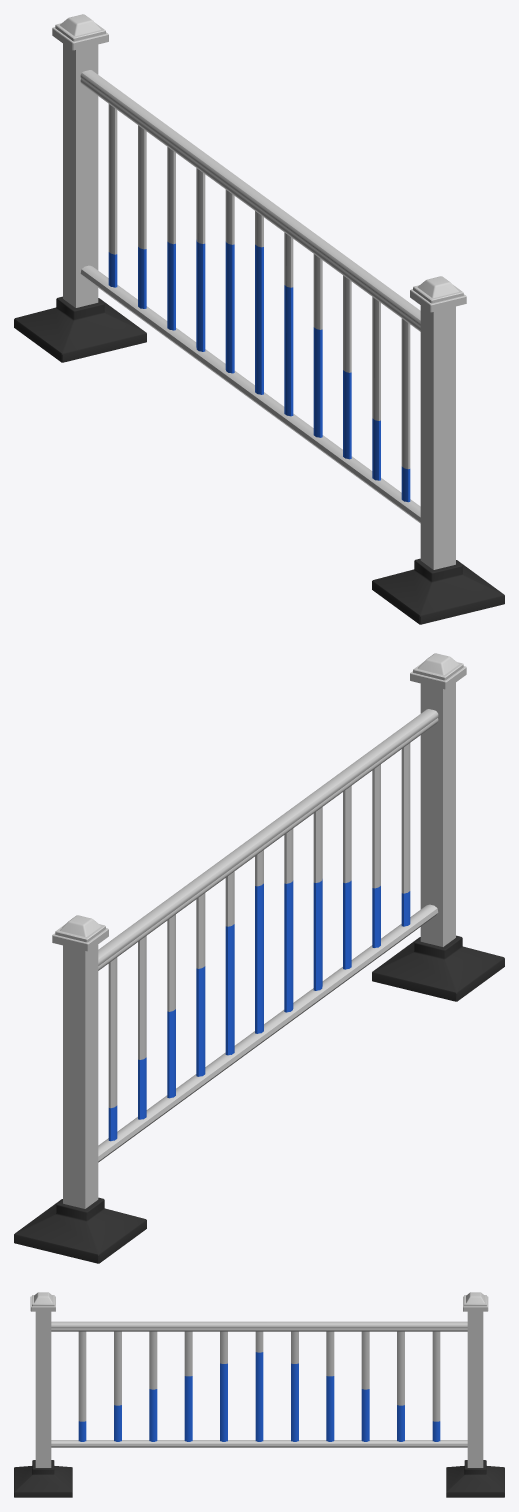
The model's file is Guardrail.FBX.
The picture shows the model from 3 angles, top to bottom: view 1: azimuth 30°, elevation 25°; view 2: azimuth 150°, elevation 25°; view 3: azimuth 270°, elevation 25°; orthographic projection. The views are drawn at different scales.
Parts seen in each view (by area): view 1: 护栏; view 2: 护栏; view 3: 护栏.
Part boxes in pixels (box(x1,y1,x2,y2)): 护栏: box(14, 14, 504, 624); 护栏: box(14, 653, 504, 1263); 护栏: box(14, 1292, 504, 1497).
Bounding box in the file's own units: 0.34 × 1.2 × 2.8.
